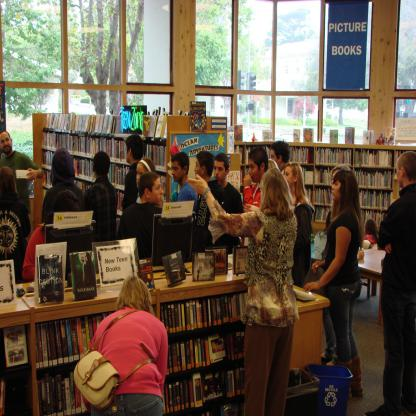book: (36, 291, 252, 415), (39, 110, 189, 235), (231, 143, 416, 231), (37, 255, 64, 306), (70, 251, 98, 300), (162, 249, 186, 290), (192, 250, 215, 282), (186, 100, 208, 132)
